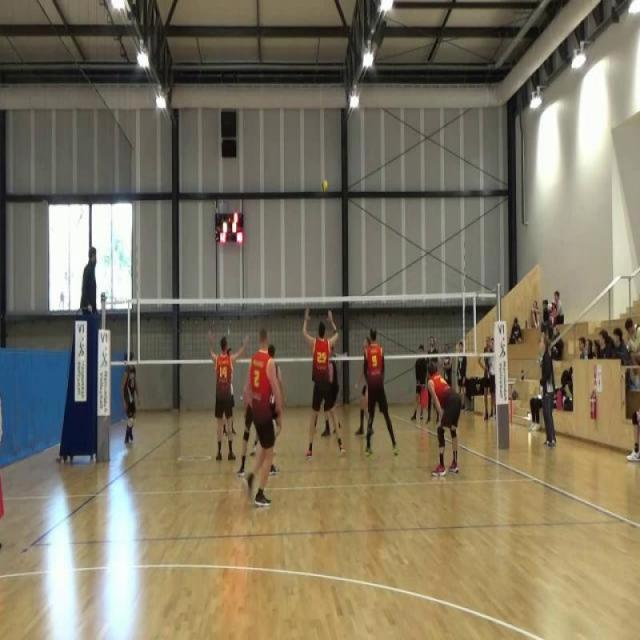volleyball: (321, 178, 328, 195)
